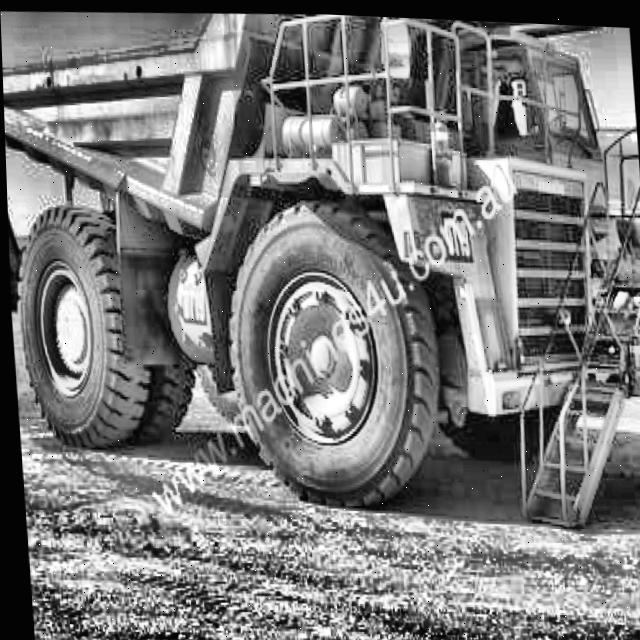dump_truck: (0, 0, 640, 547)
